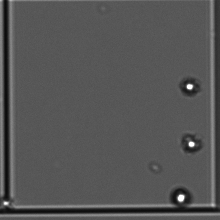Living Cell: (178, 130, 204, 158), (176, 74, 202, 102), (168, 185, 192, 207)
